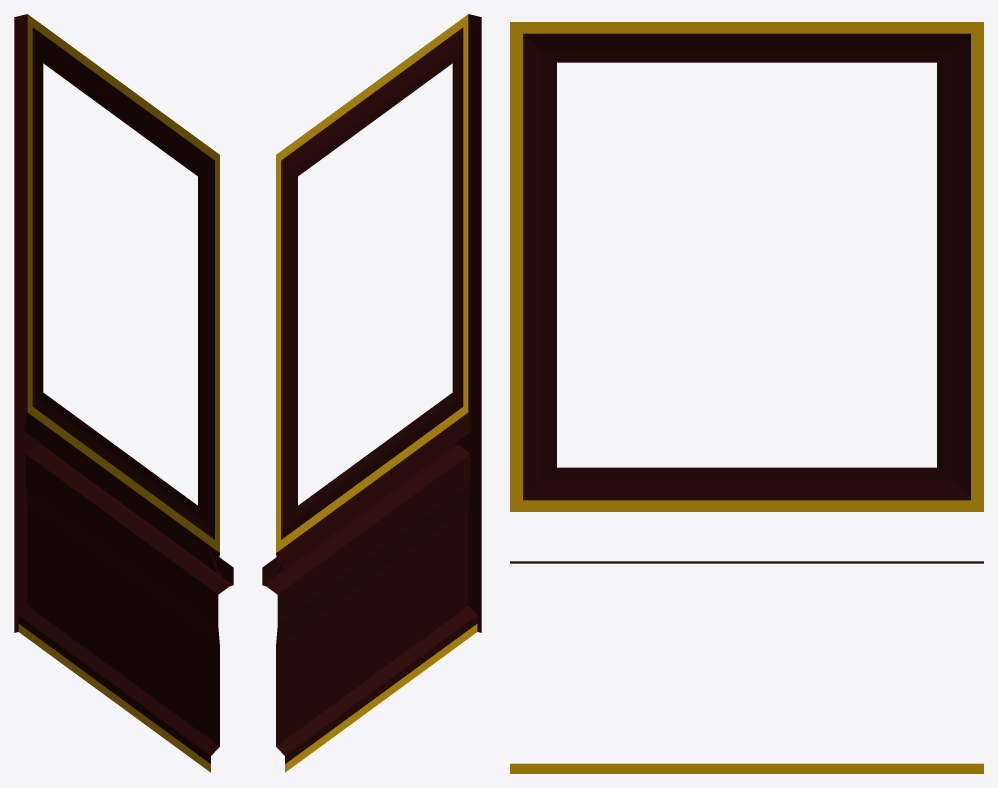
The model's file is SceneWallWindow.obj.
3 views of the same model, side by side, from view 1: azimuth 30°, elevation 25°; view 2: azimuth 150°, elevation 25°; view 3: azimuth 270°, elevation 25° (orthographic). The views are drawn at different scales.
Visible parts, largest first — view 1: Plane.013; view 2: Plane.013; view 3: Plane.013.
Part boxes in pixels (x1,y1,x2,y2): Plane.013: (14,14,233,772); Plane.013: (262,14,481,772); Plane.013: (510,22,983,773).
Size of the model in its own units: 0.6084 by 13.23 by 7.5.
